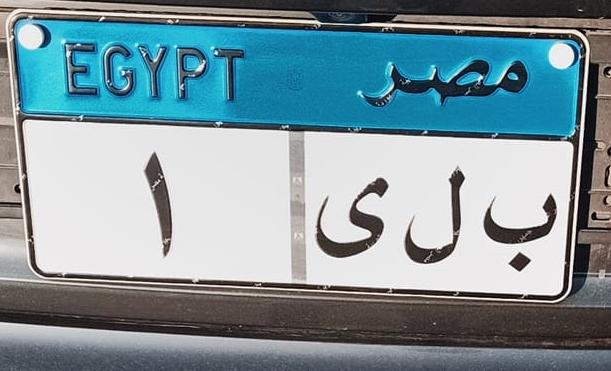1: (141, 149, 182, 262)
baa: (478, 185, 560, 277)
laam: (404, 161, 468, 272)
yaa: (312, 170, 392, 263)
